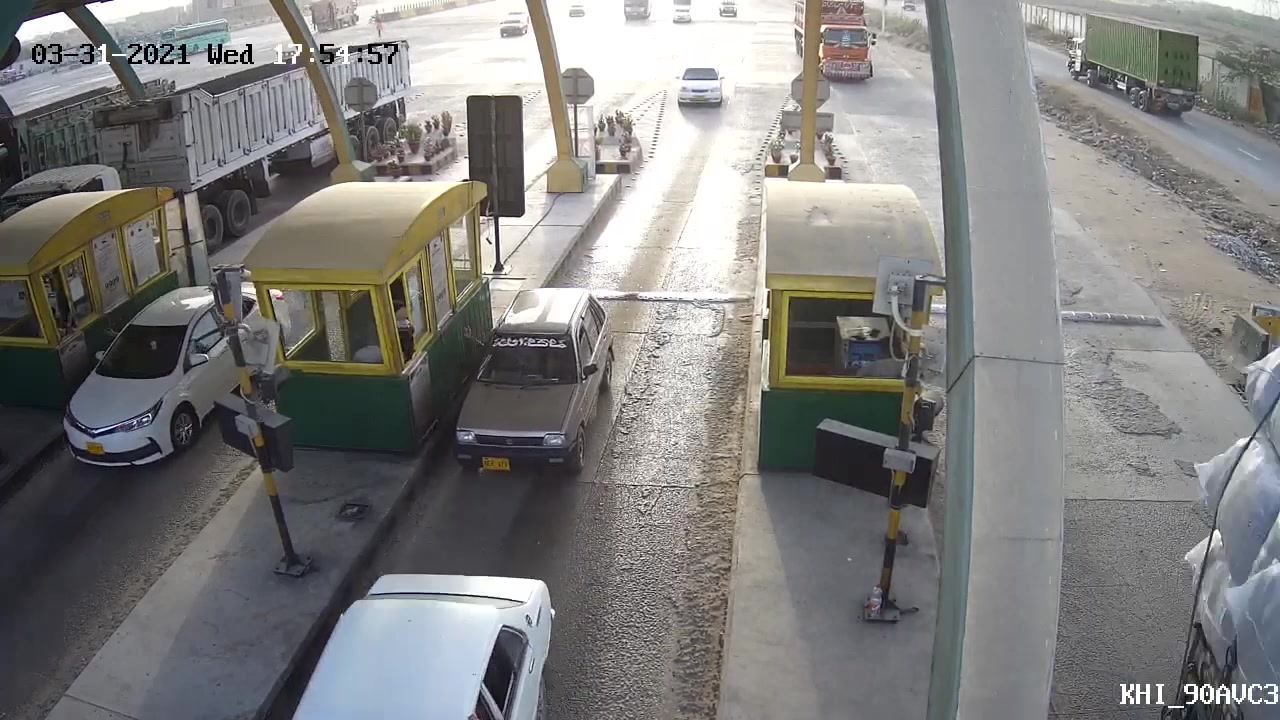F1: (441, 285, 624, 482)
